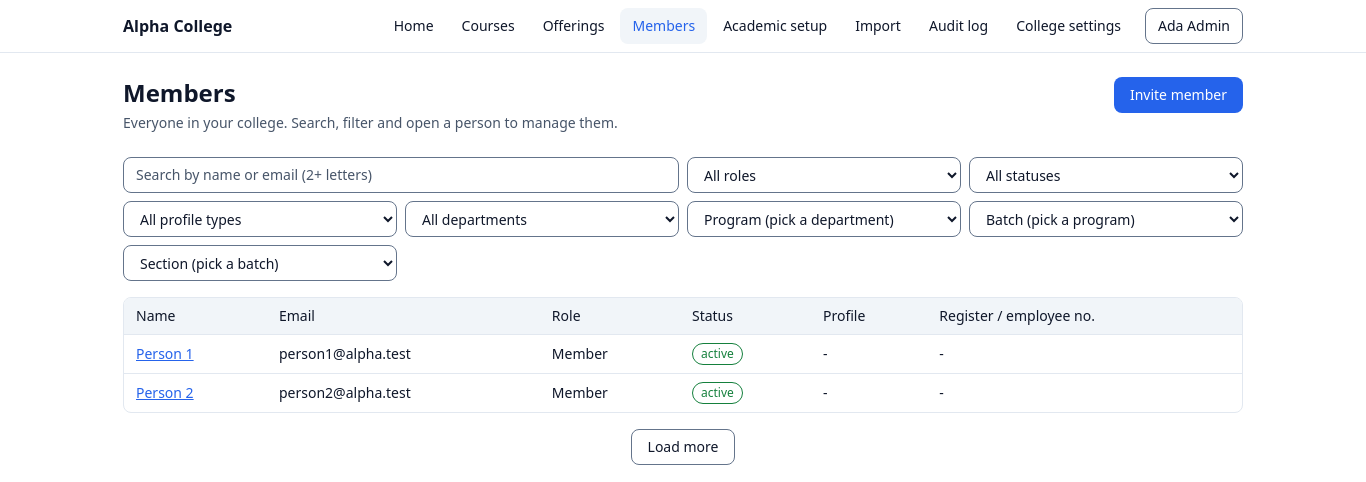
members list › loads more with the keyset cursor and appends instead of replacing
Click the button "Load more" at x=683, y=447, box [631,429,736,465]
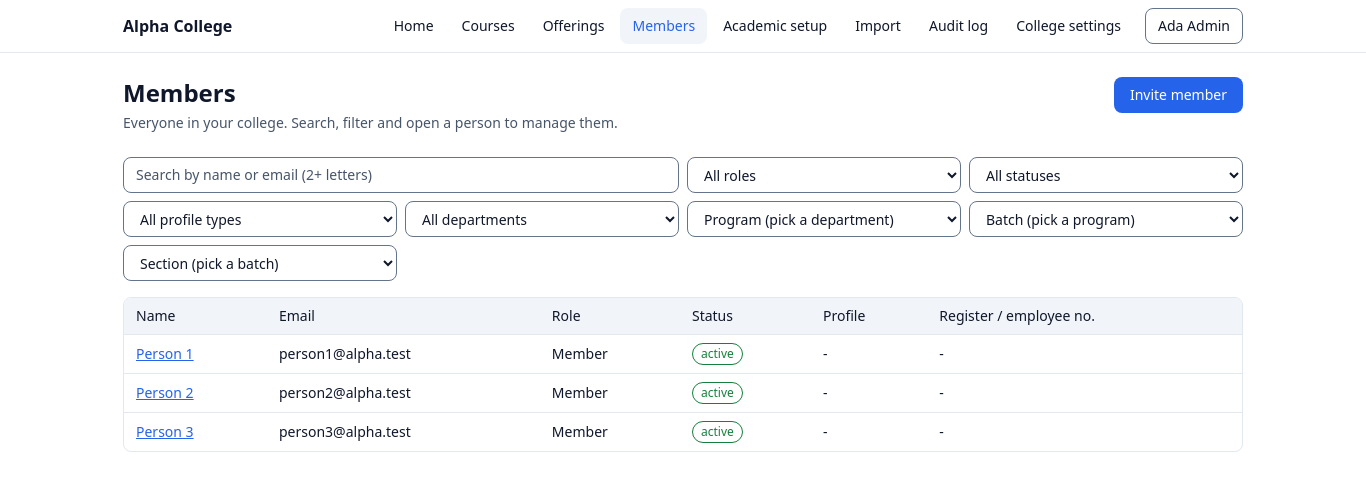
Expected: the link "Person 1" is shown, [136,344,194,363]
Result: the button "Load more" is gone
